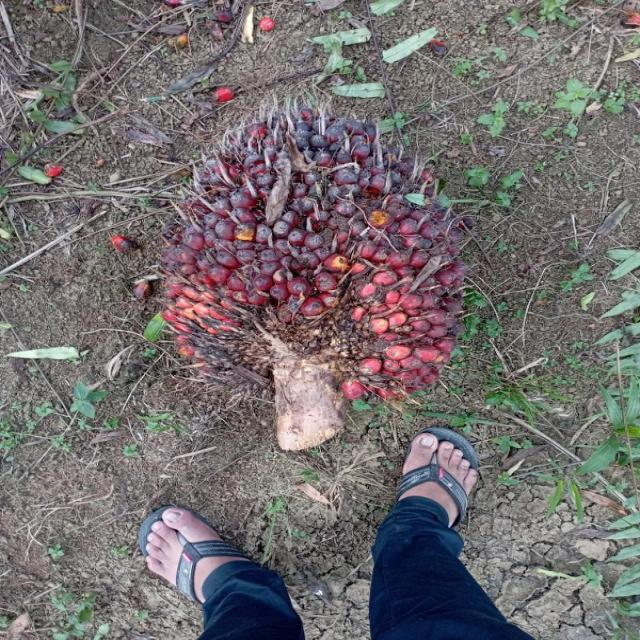fraksi 1: (157, 103, 480, 407)
